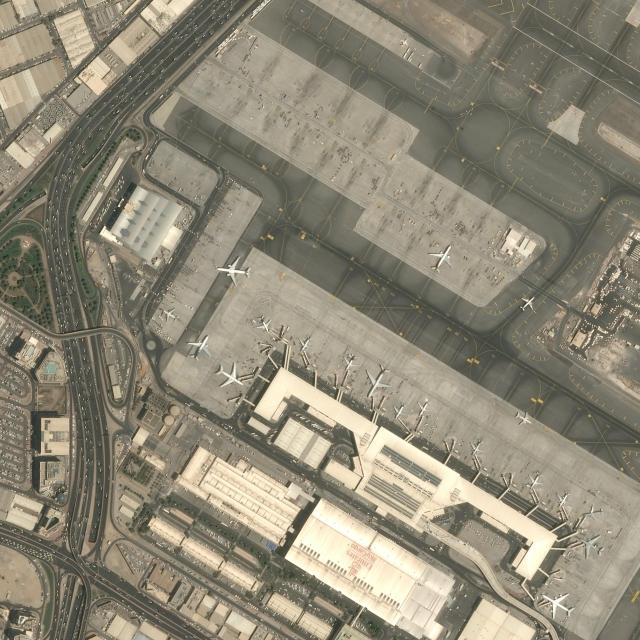aircraft: (216, 254, 250, 284), (541, 590, 574, 620), (364, 360, 390, 398), (576, 530, 606, 558), (428, 242, 454, 272), (215, 362, 244, 388), (186, 334, 212, 360), (340, 352, 358, 371), (583, 503, 603, 519), (416, 398, 432, 417), (296, 334, 312, 352), (515, 408, 531, 426), (255, 315, 271, 332), (556, 489, 572, 506), (392, 402, 408, 418), (160, 307, 178, 321), (520, 294, 534, 311), (470, 438, 484, 454), (528, 471, 542, 486), (400, 38, 408, 48)
